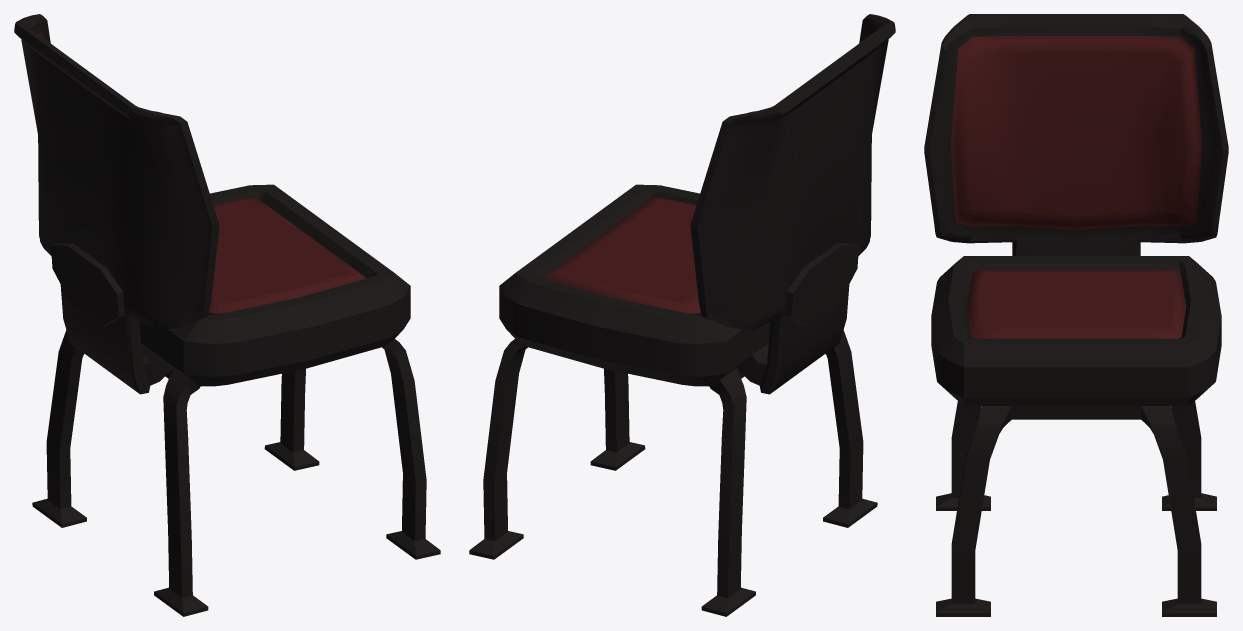
Rendered from chair_01.fbx.
3 views of the same model, side by side, from view 1: azimuth 30°, elevation 25°; view 2: azimuth 150°, elevation 25°; view 3: azimuth 270°, elevation 25° (orthographic). The views are drawn at different scales.
Visible parts, largest first — view 1: Chairs; view 2: Chairs; view 3: Chairs.
Boxes of the visible parts, <box> form: Chairs: <box>14,14,440,616</box>; Chairs: <box>469,14,895,616</box>; Chairs: <box>924,14,1228,616</box>.
Bounding box in the file's own units: 0.7086 × 1.16 × 0.6795.
1 material, 1 textured.
